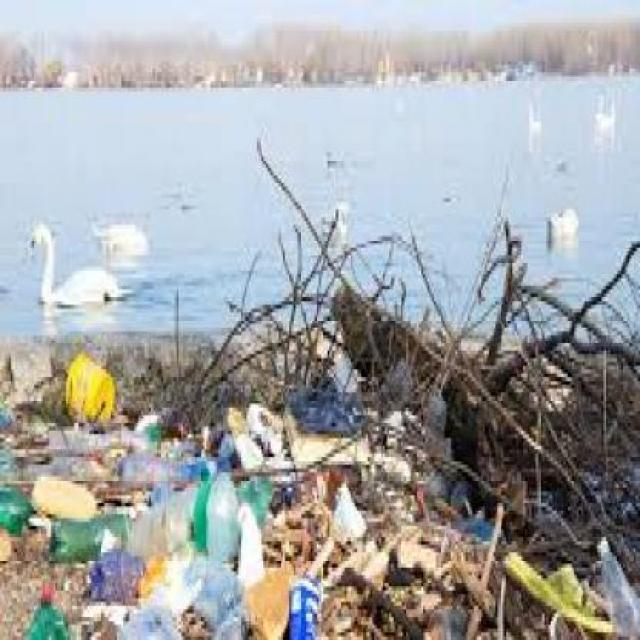garbage: (6, 320, 638, 636), (262, 171, 638, 350)
